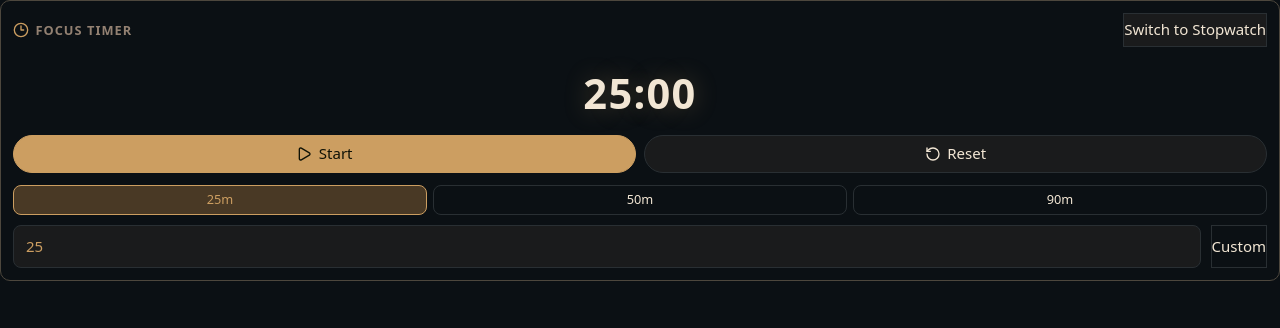
Test case: validates custom minutes safely
The width and height of the screenshot is (1280, 328).
Replace the text in the field with placeholder "Custom minutes" with "0" at (607, 246), box [13,225,1200,268]
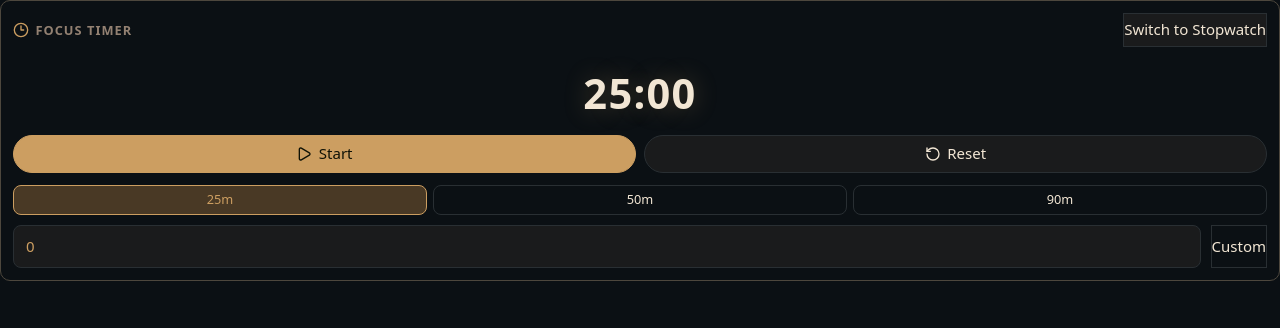
Click the button "Custom".
click(1239, 246)  # box [1210,225,1267,268]
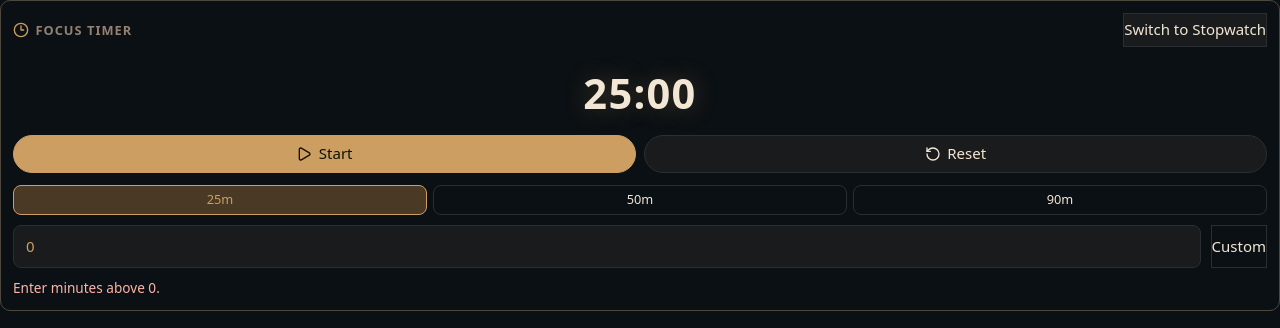
Expected: the text "Enter minutes above 0." is shown, [13,278,160,297]
